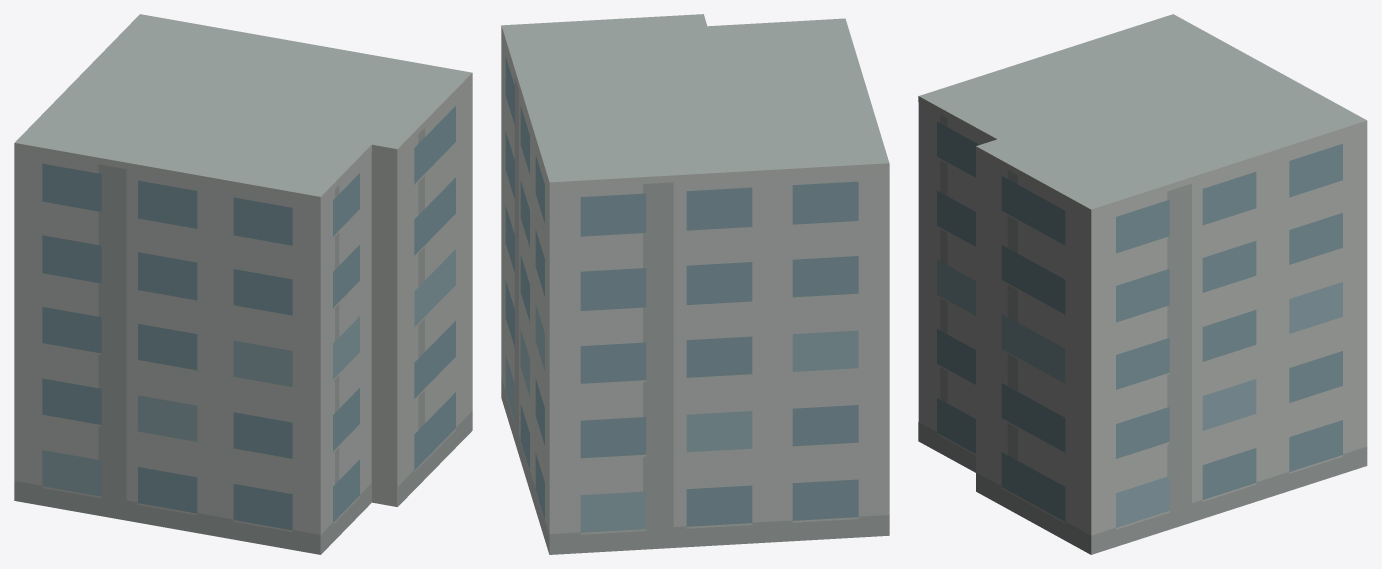
File: survey-upis-32906133.glb
The picture shows the model from 3 angles, left to right: view 1: azimuth 30°, elevation 25°; view 2: azimuth 150°, elevation 25°; view 3: azimuth 270°, elevation 25°; orthographic projection. The views are drawn at different scales.
Visible parts, largest first — view 1: survey-upis-32906133.tmp; view 2: survey-upis-32906133.tmp; view 3: survey-upis-32906133.tmp.
Part boxes in pixels (<box>): survey-upis-32906133.tmp: <box>14,14,472,554</box>; survey-upis-32906133.tmp: <box>501,14,889,554</box>; survey-upis-32906133.tmp: <box>918,14,1367,554</box>.
Bounding box in the file's own units: 15.98 × 13.15 × 15.5.
